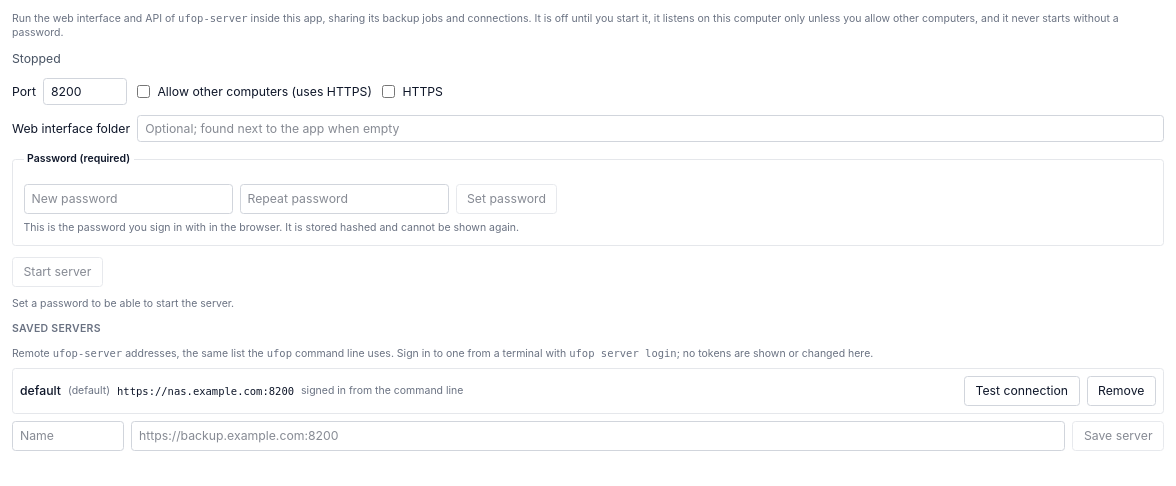
Test: Saved servers › lists the servers without tokens and tests one against its health address
Expected: the list item with test id "server-default" shows "https://nas.example.com:8200", [117,385,294,397]
Expected: the list item with test id "server-default" shows "signed in from the command line", [301,384,463,397]
Click the button "Test connection": (1022, 391) [964,376,1080,406]
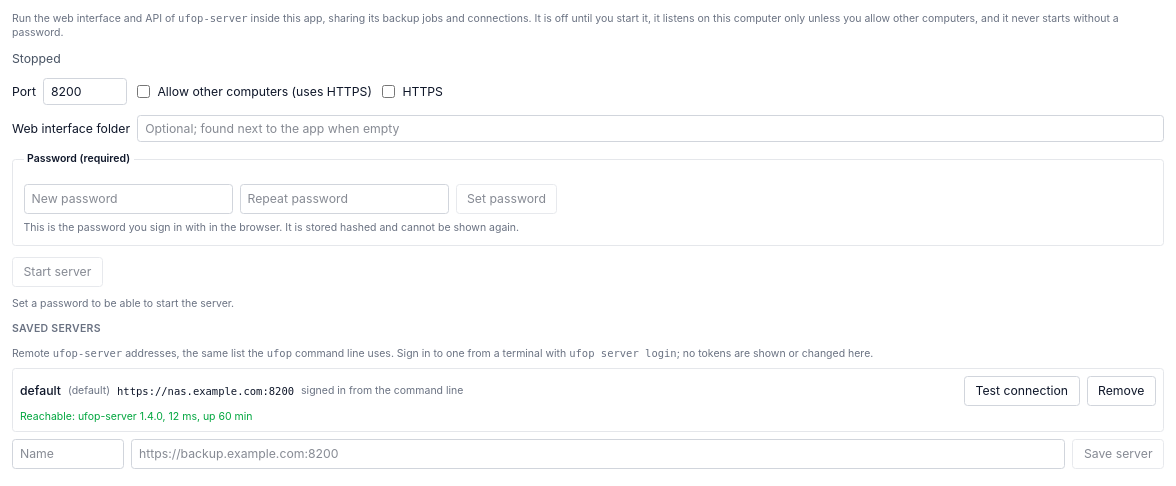
Now the list item with test id "server-default" shows "Reachable: ufop-server 1.4.0, 12 ms, up 60 min", box [20,410,252,422]
